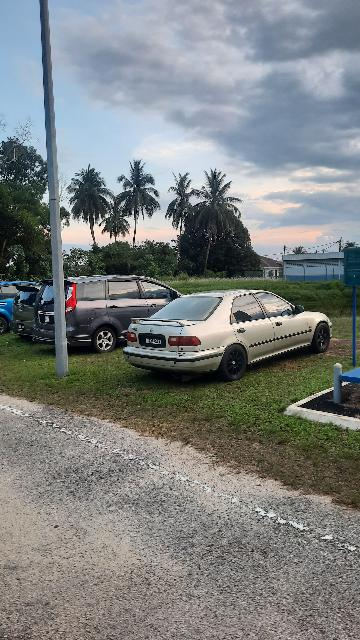License_Plate: (140, 338, 169, 349)
car: (124, 288, 335, 382)
